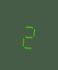two: (19, 19, 36, 50)
